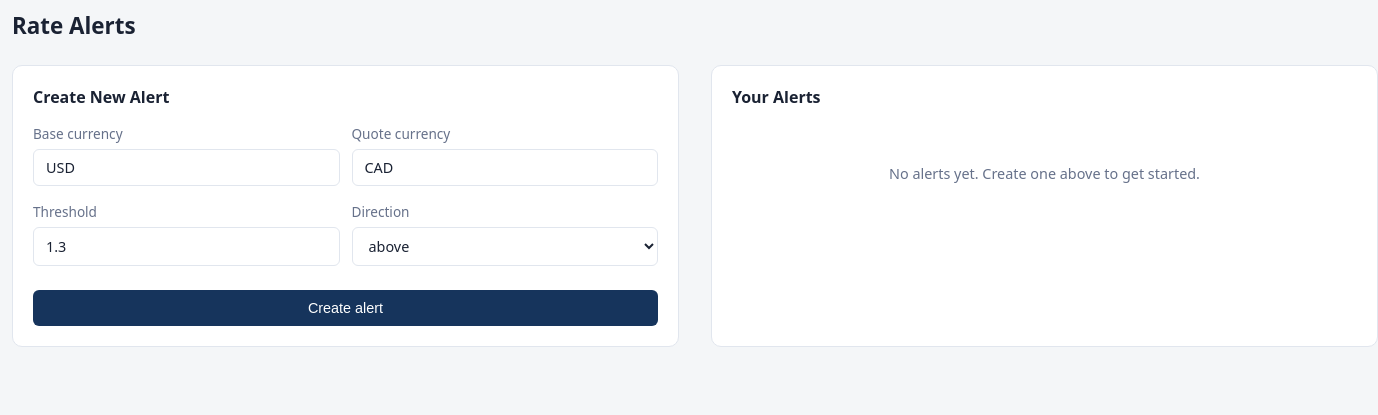
Test: AlertsPanel › creating alerts › shows error message on createAlert failure
This screenshot has width=1378, height=415.
Replace the text in the field labelled "Base currency" with "gbp" at (186, 168), box [33,149,340,186]
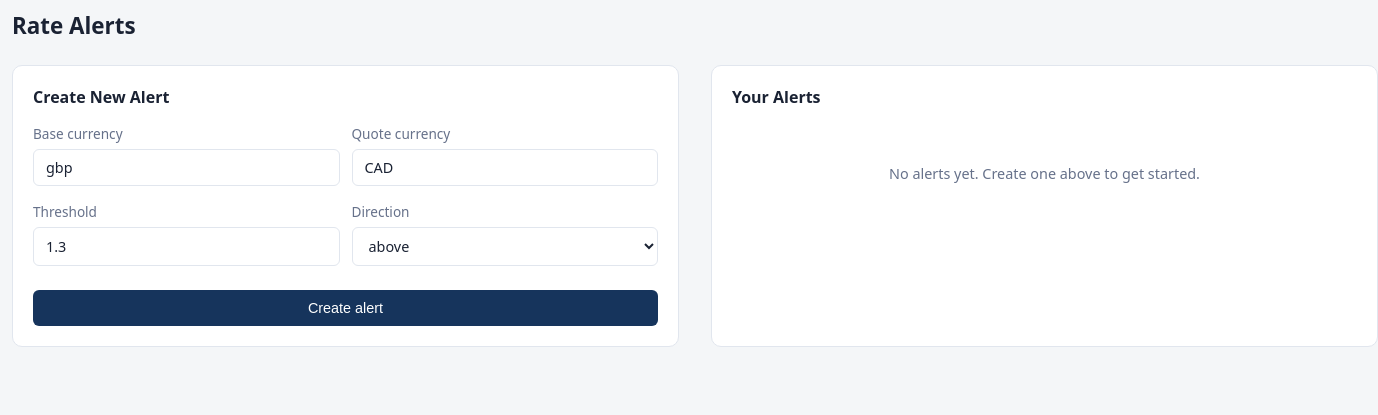
Type "usd" into the field labelled "Quote currency" at (505, 168), box [352,149,658,186]
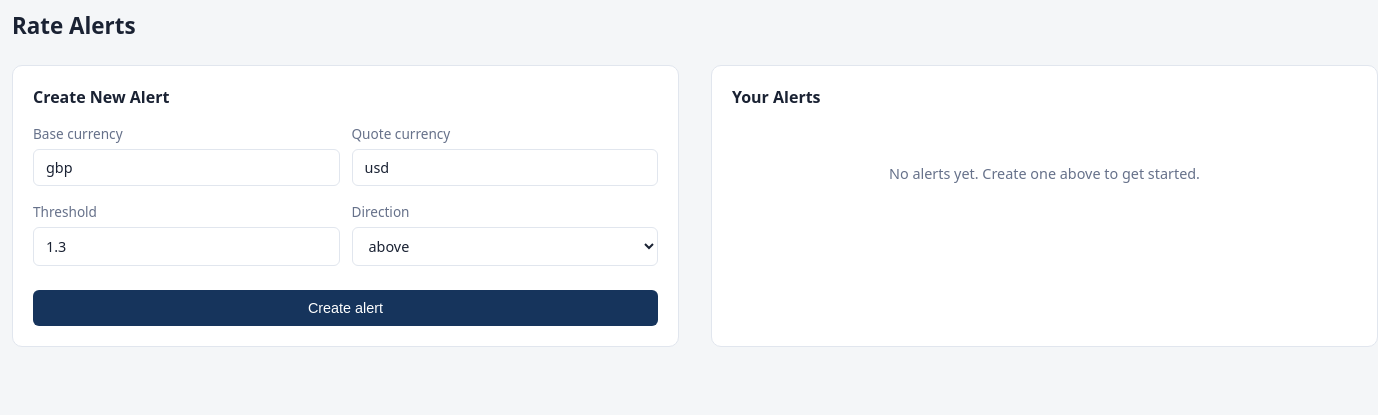
Replace the text in the number field labelled "Threshold" with "1.5" at (186, 246), box [33,227,340,266]
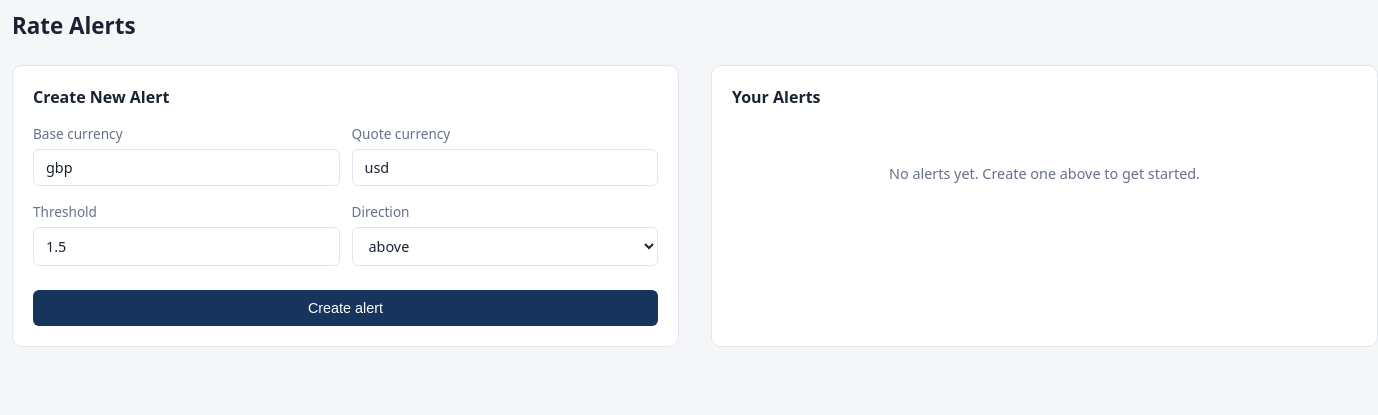
Submit the form, box [33,124,658,326]
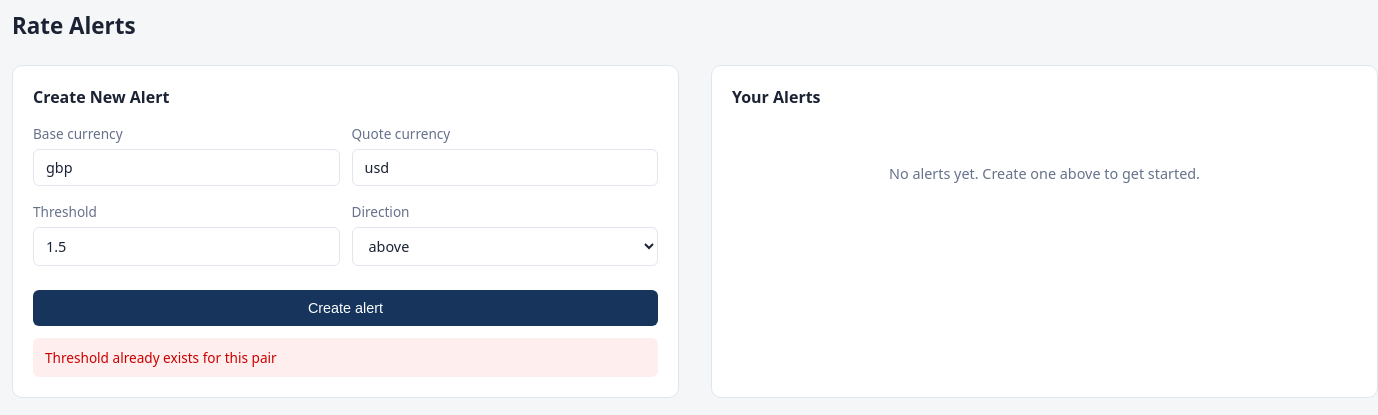
Check: the text "Threshold already exists for this pair" is shown, box [33,338,658,377]
